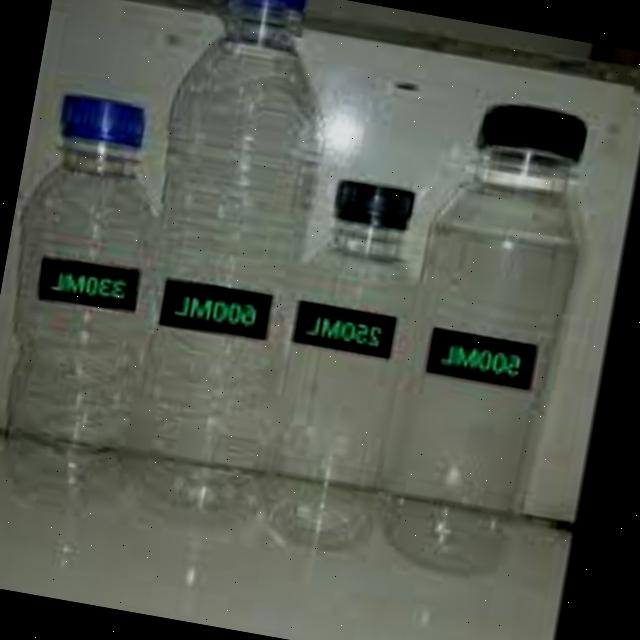trash: (101, 0, 356, 545), (371, 83, 611, 589), (0, 70, 192, 533), (248, 166, 444, 572)
